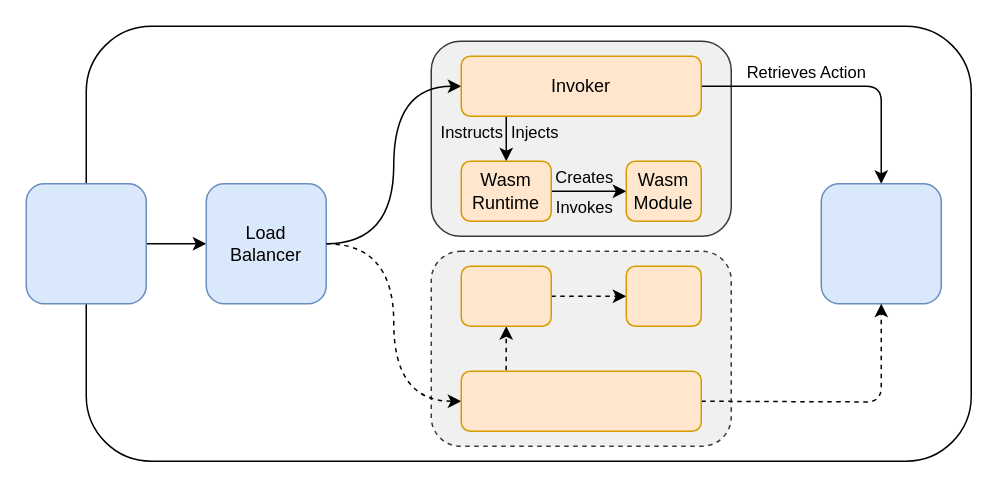
The diagram is 998 pixels wide and 488 high, and some of its shapes have lost their labels. Here are the shapes that lost their labels. From the top down, the box of each, then its label:
(25, 182, 146, 304): API Gateway
(820, 182, 941, 304): Function Store
